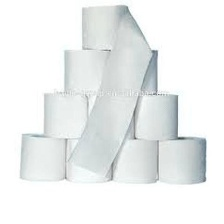tissue: (61, 0, 156, 178), (154, 131, 209, 186), (128, 88, 182, 144), (14, 130, 70, 184), (107, 133, 161, 186), (62, 132, 116, 185), (38, 90, 91, 141), (60, 46, 112, 95)
